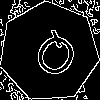Q: (24, 27, 84, 90)
